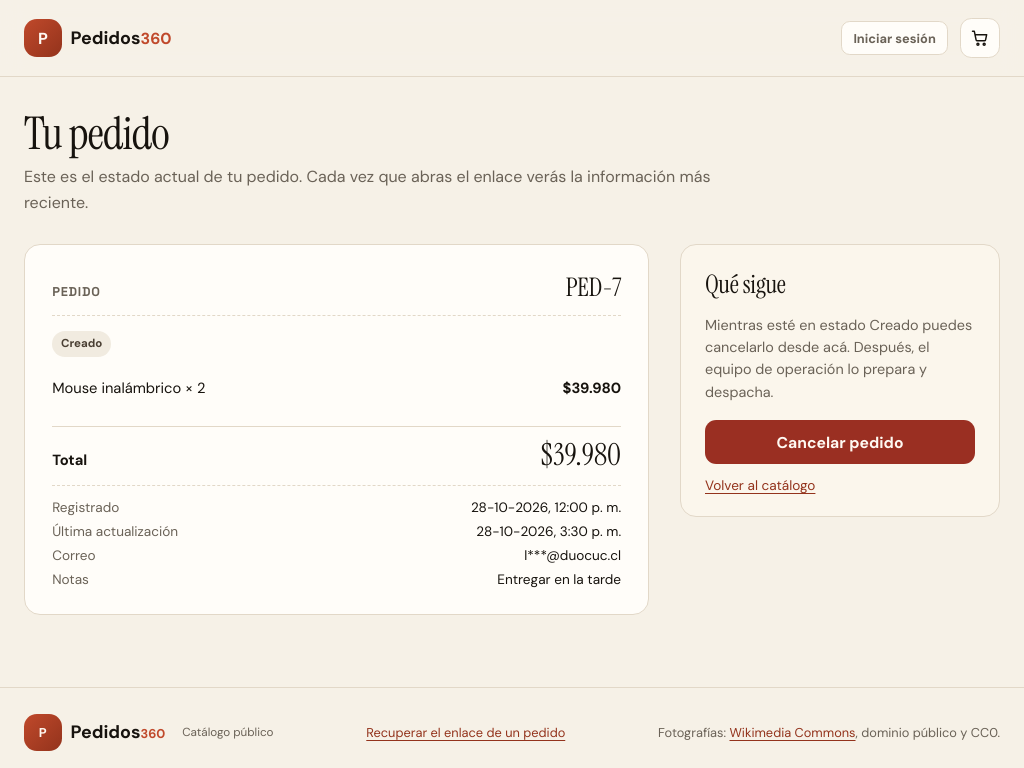
Test case: GuestTrackingPage › cancela tras confirmar y muestra el pedido actualizado
Click the button "Cancelar pedido".
click(840, 442)  # box [705,420,975,464]
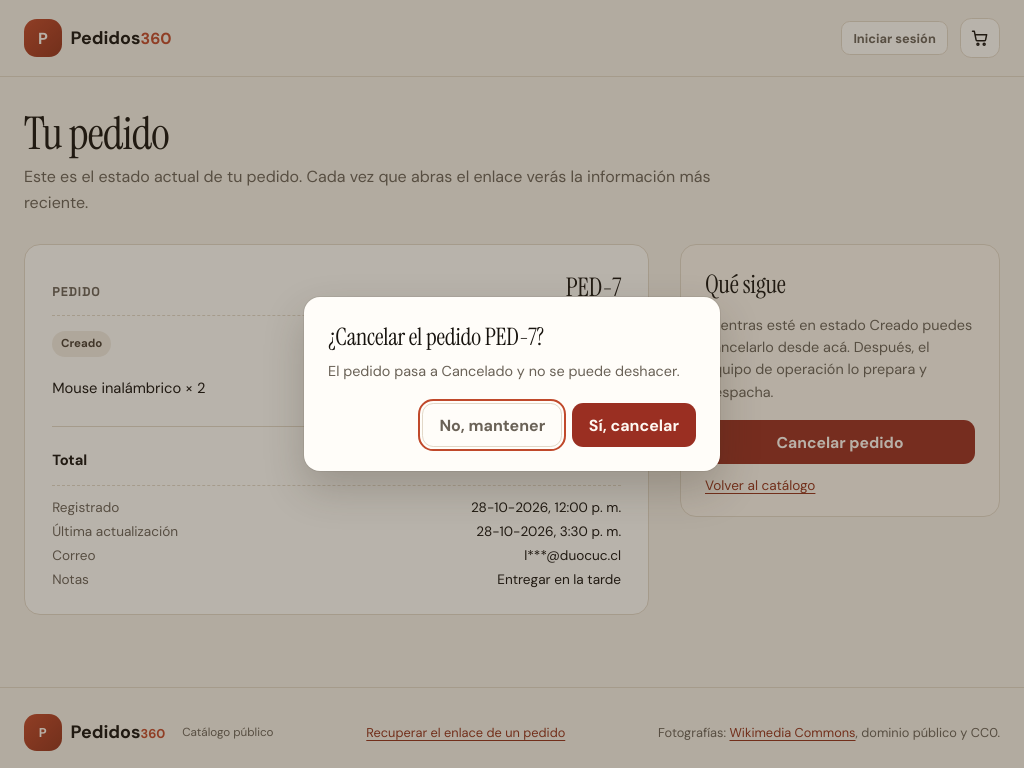
Click the button "Sí, cancelar".
click(634, 425)  # box [572,403,696,447]
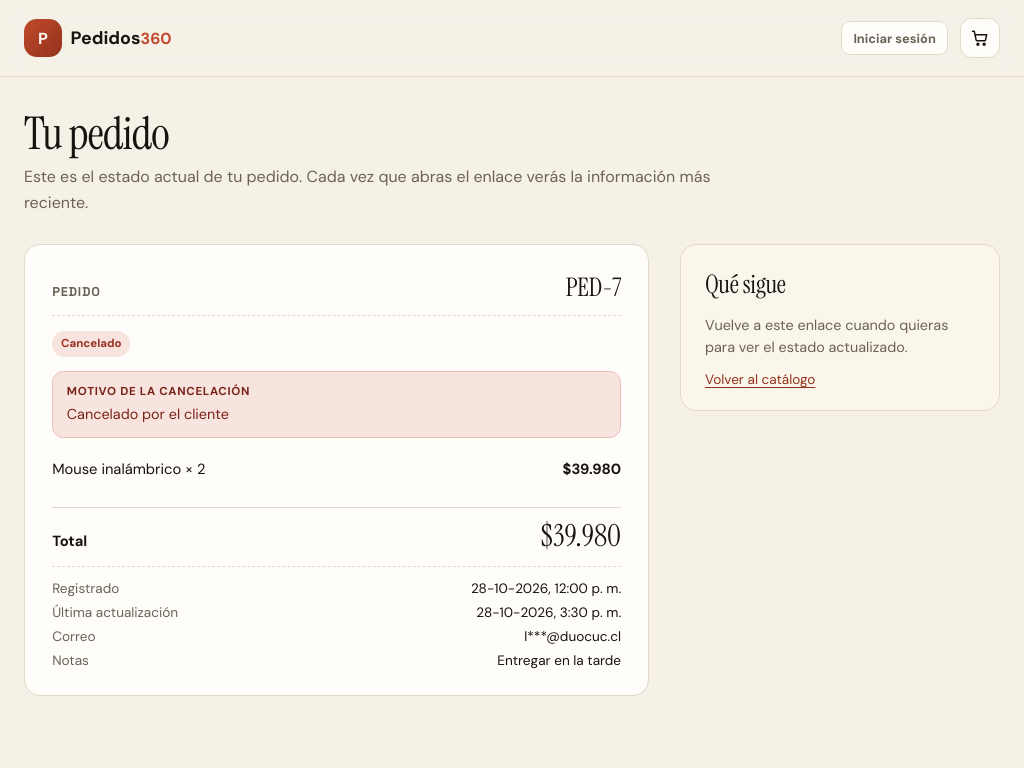
Expected: the text "Cancelado" is shown, [52,330,130,357]
Expected: the text "Cancelado por el cliente" is shown, [67,405,229,423]
Expected: the button "Cancelar pedido" is gone
